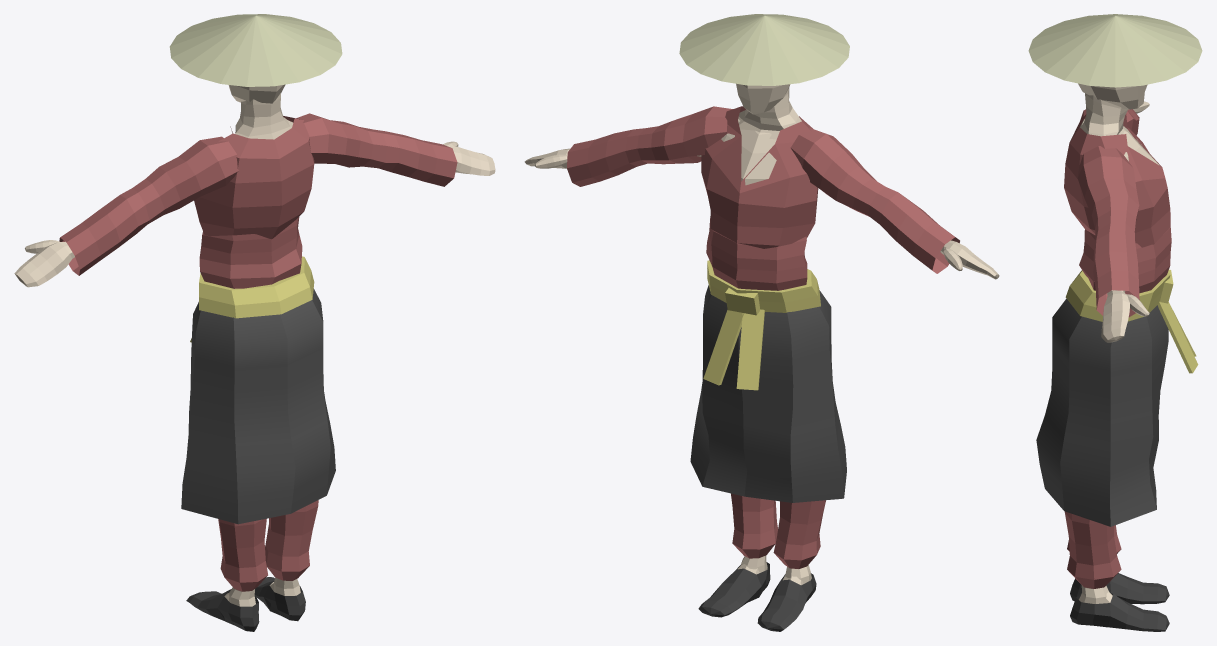
File: LightSamurai.fbx
3 views of the same model, side by side, from view 1: azimuth 30°, elevation 25°; view 2: azimuth 150°, elevation 25°; view 3: azimuth 270°, elevation 25° (orthographic).
Visible parts, largest first — view 1: LightSamuraiBO; view 2: LightSamuraiBO; view 3: LightSamuraiBO.
Part boxes in pixels (left/top/right/bottom): LightSamuraiBO: left=14, top=14, right=495, bottom=631; LightSamuraiBO: left=524, top=14, right=999, bottom=631; LightSamuraiBO: left=1028, top=14, right=1202, bottom=631.
Bounding box in the file's own units: 149 × 178 × 46.95.
